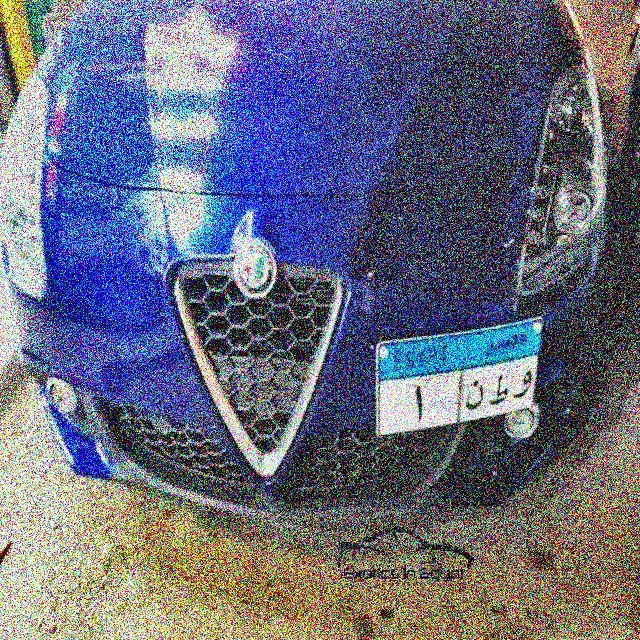License Plate: (372, 314, 549, 439)
